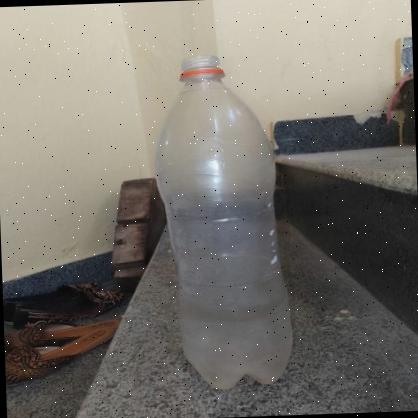bottle: (147, 47, 308, 401)
